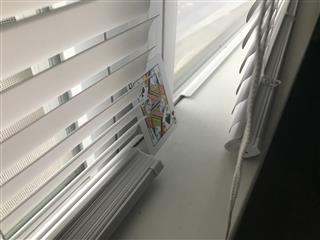QueenOfSpades: (125, 52, 178, 156)
